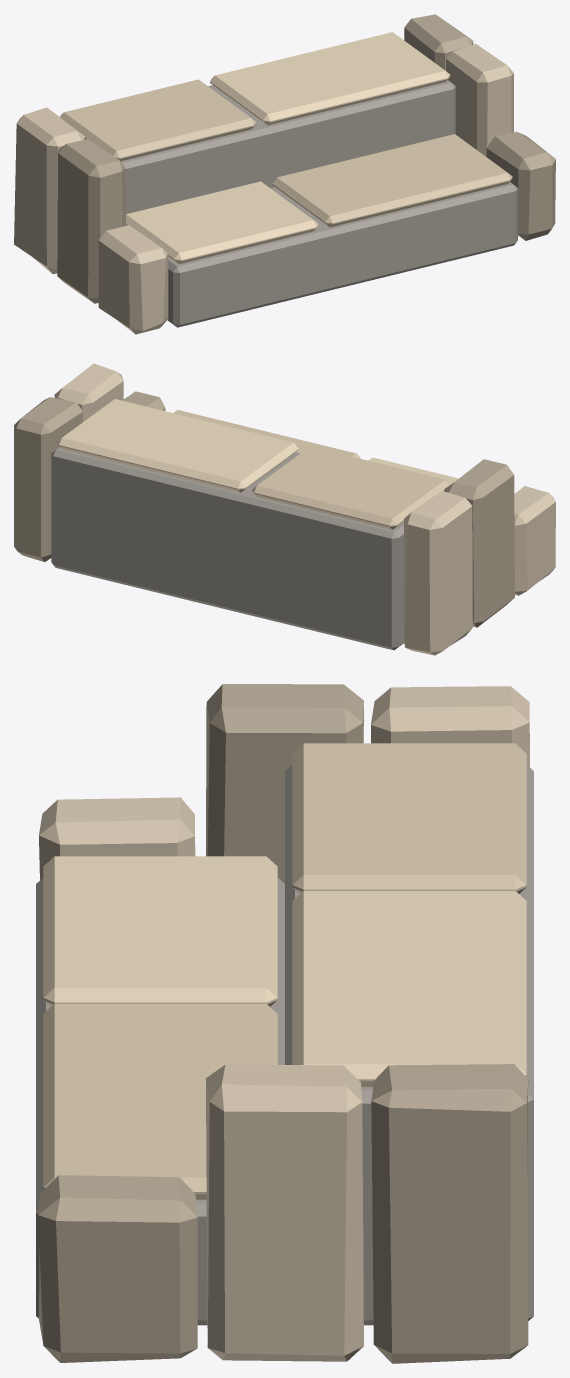
The model's file is stone_step.glb.
The picture shows the model from 3 angles, top to bottom: view 1: azimuth 30°, elevation 25°; view 2: azimuth 150°, elevation 25°; view 3: azimuth 270°, elevation 25°; orthographic projection. The views are drawn at different scales.
Visible parts, largest first — view 1: stone_step; view 2: stone_step; view 3: stone_step.
Part boxes in pixels (box(x1,y1,x2,y2)): stone_step: box(14, 14, 555, 334); stone_step: box(14, 363, 555, 655); stone_step: box(36, 684, 533, 1363).
Bounding box in the file's own units: 1.99 × 0.6208 × 1.
